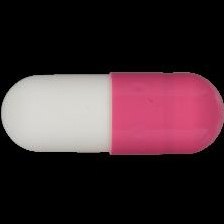61786-351: (0, 0, 224, 224)
